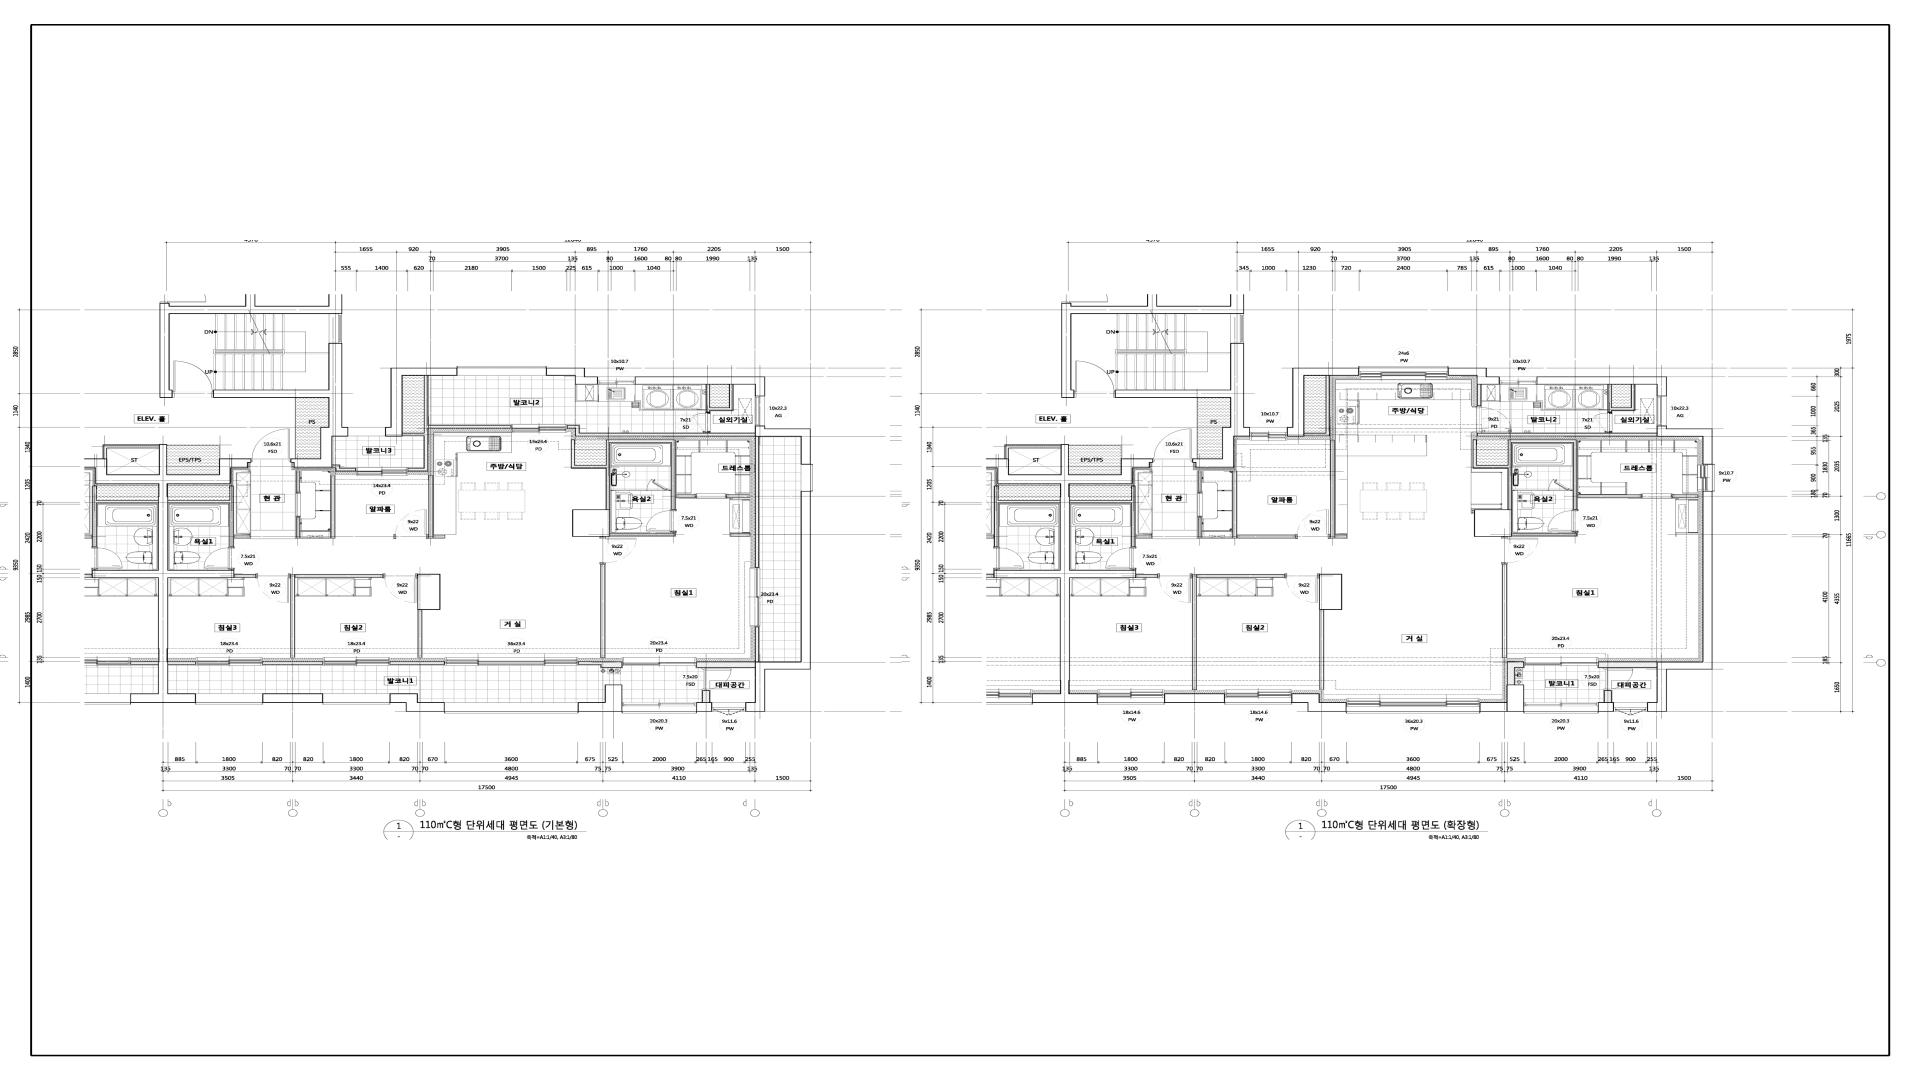door: (173, 361, 214, 398), (1075, 361, 1114, 398), (251, 429, 291, 462), (1153, 429, 1192, 462), (600, 537, 637, 564), (1502, 537, 1539, 564), (384, 574, 417, 603), (1286, 574, 1319, 603), (1296, 509, 1329, 538), (394, 509, 427, 538), (256, 575, 290, 603), (1158, 575, 1192, 603), (1477, 406, 1513, 433), (1604, 667, 1634, 691), (703, 667, 732, 691), (1105, 547, 1135, 570), (646, 510, 675, 533), (204, 547, 233, 570), (1548, 510, 1577, 533), (1594, 413, 1613, 433), (694, 413, 711, 433), (646, 479, 671, 491), (1548, 479, 1573, 491), (696, 493, 727, 498), (1642, 493, 1672, 498), (295, 493, 301, 517), (1197, 493, 1203, 517)
wall: (986, 444, 1153, 703), (84, 444, 251, 703), (160, 294, 343, 398), (1062, 294, 1244, 398), (1114, 343, 1250, 468), (214, 343, 348, 468), (1473, 439, 1642, 537), (1647, 492, 1713, 712), (745, 492, 811, 712), (571, 439, 696, 537), (1192, 575, 1286, 690), (402, 376, 512, 472), (290, 575, 384, 658), (1199, 471, 1296, 538), (297, 475, 394, 538), (1069, 485, 1153, 547), (167, 485, 251, 547), (385, 368, 458, 436), (1287, 368, 1358, 436), (1319, 574, 1342, 690), (1536, 377, 1667, 396), (636, 377, 765, 396), (1656, 426, 1713, 464), (756, 426, 811, 464), (417, 574, 440, 658), (567, 426, 756, 436), (1329, 440, 1346, 538), (1304, 376, 1331, 436), (579, 684, 622, 712), (1481, 684, 1524, 712), (427, 475, 446, 538), (390, 694, 444, 712), (1292, 694, 1346, 712), (1448, 368, 1499, 385), (547, 368, 597, 385), (1005, 444, 1062, 459), (103, 444, 160, 459), (1068, 444, 1122, 459), (1607, 385, 1635, 413), (705, 385, 733, 413), (167, 444, 220, 459), (1477, 433, 1656, 436), (262, 694, 323, 703), (1164, 694, 1225, 703), (756, 436, 760, 568), (1502, 563, 1507, 658), (1507, 662, 1524, 684), (601, 563, 605, 658), (696, 662, 756, 667), (1598, 662, 1656, 667), (578, 662, 622, 667), (1656, 626, 1662, 662), (262, 662, 323, 665), (332, 465, 356, 472), (1598, 703, 1614, 712), (389, 662, 444, 665), (696, 703, 712, 712), (756, 626, 760, 662), (1672, 495, 1698, 498), (1604, 691, 1611, 703), (727, 495, 750, 498), (703, 691, 711, 703), (1477, 385, 1481, 406), (731, 533, 750, 537), (167, 662, 195, 665), (1135, 575, 1158, 578), (1199, 471, 1201, 493), (297, 471, 299, 493), (235, 575, 256, 578), (229, 570, 233, 570), (1197, 398, 1197, 459), (1131, 570, 1135, 570), (295, 398, 295, 459)
window: (1346, 699, 1481, 713), (444, 703, 579, 713), (1358, 367, 1448, 380), (444, 658, 578, 666), (1097, 690, 1164, 704), (1225, 690, 1292, 704), (456, 367, 547, 376), (622, 703, 696, 713), (1524, 703, 1598, 713), (323, 694, 390, 704), (195, 694, 262, 704), (1524, 658, 1598, 666), (622, 658, 696, 666), (750, 568, 760, 626), (195, 658, 262, 666), (323, 658, 390, 666), (1250, 427, 1287, 440), (356, 467, 407, 476), (512, 425, 567, 433), (1614, 703, 1647, 716), (712, 703, 745, 716), (328, 314, 343, 343), (1230, 314, 1244, 343), (348, 427, 385, 436), (1702, 464, 1714, 492), (800, 464, 812, 492), (1656, 396, 1667, 426), (597, 377, 636, 385), (1499, 377, 1538, 385), (756, 396, 765, 426)
